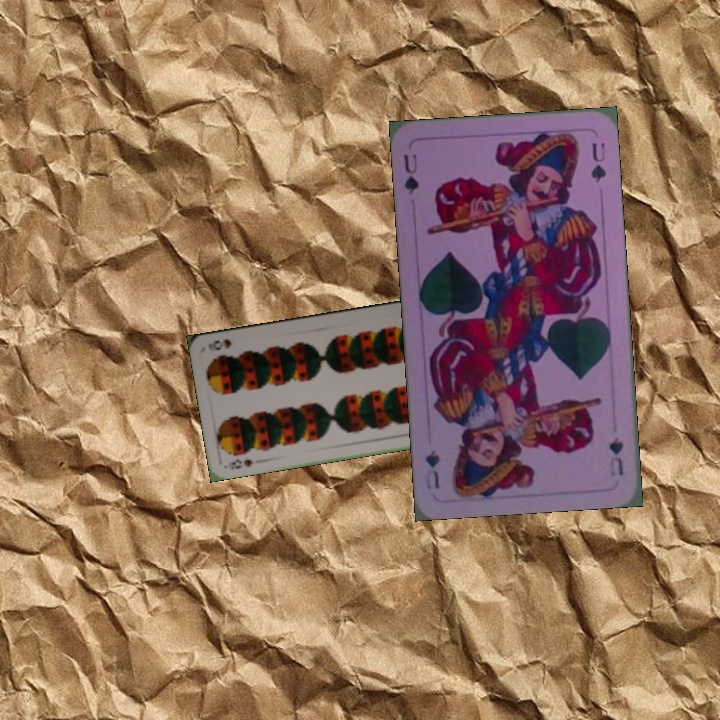GU: (400, 150, 422, 196), (605, 433, 626, 479)
S8: (224, 455, 256, 472)
